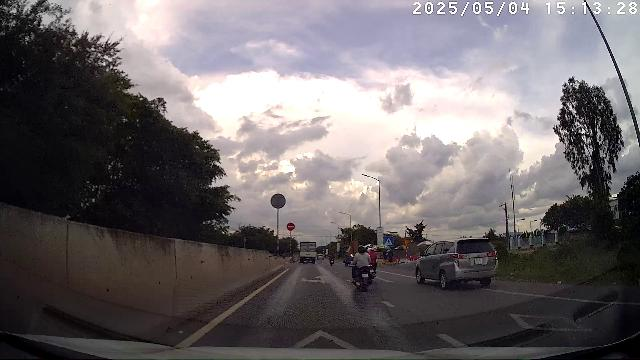102-cam-di-nguoc-chieu: (286, 222, 296, 231)
423a-duong-nguoi-di-bo-sang-ngang-1: (384, 237, 394, 248)
